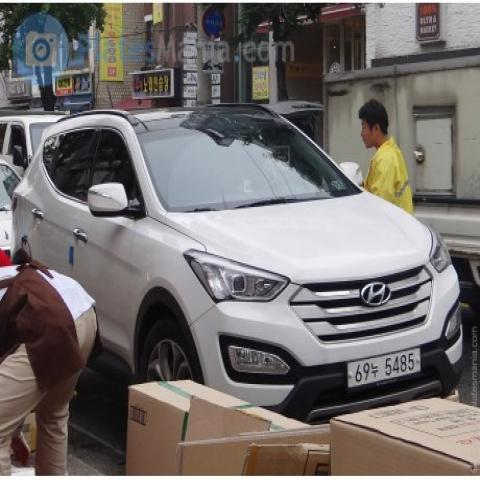LP: (340, 341, 428, 399)
